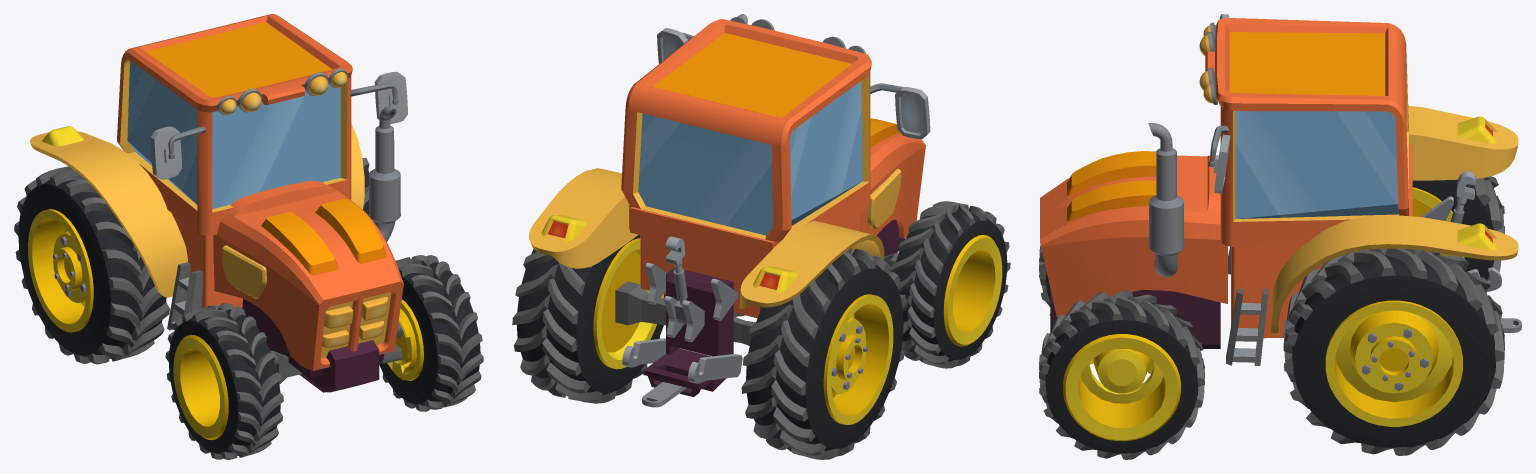
File: Tractor_1_color_2.fbx
3 renders of one model, left to right at view 1: azimuth 30°, elevation 25°; view 2: azimuth 150°, elevation 25°; view 3: azimuth 270°, elevation 25°, orthographic. The views are drawn at different scales.
Parts seen in each view (by area): view 1: Tractor_1_altColor_mesh, Tractor_1_Wheel_BR_mesh, Tractor_1_Wheel_FR_mesh, Tractor_1_Wheel_FL_mesh; view 2: Tractor_1_altColor_mesh, Tractor_1_Wheel_BR_mesh, Tractor_1_Wheel_BL_mesh, Tractor_1_Wheel_FR_mesh; view 3: Tractor_1_altColor_mesh, Tractor_1_Wheel_BL_mesh, Tractor_1_Wheel_FL_mesh, Tractor_1_Wheel_BR_mesh.
Boxes of the visible parts, <box> form: Tractor_1_altColor_mesh: <box>30,14,407,392</box>; Tractor_1_Wheel_BR_mesh: <box>14,166,169,364</box>; Tractor_1_Wheel_FR_mesh: <box>165,303,283,459</box>; Tractor_1_Wheel_FL_mesh: <box>379,255,483,411</box>; Tractor_1_altColor_mesh: <box>529,14,930,407</box>; Tractor_1_Wheel_BR_mesh: <box>741,248,907,459</box>; Tractor_1_Wheel_BL_mesh: <box>512,235,665,403</box>; Tractor_1_Wheel_FR_mesh: <box>890,201,1010,368</box>; Tractor_1_altColor_mesh: <box>1040,14,1521,365</box>; Tractor_1_Wheel_BL_mesh: <box>1283,248,1504,455</box>; Tractor_1_Wheel_FL_mesh: <box>1039,290,1204,459</box>; Tractor_1_Wheel_BR_mesh: <box>1412,176,1504,292</box>.
Bounding box in the file's own units: 173 × 186 × 233.
